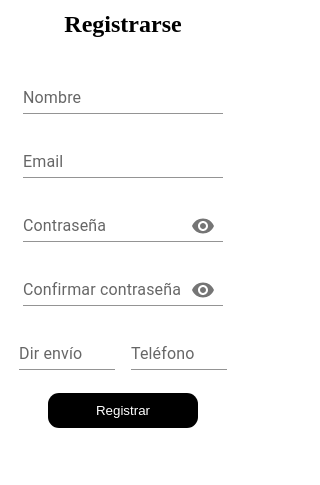
Test case: Register component › U8F-008: Validar existencia de minúscula en contraseña.
Step 1. Type "HOLA1234" into the password field labelled "Contraseña" → (99, 226), box [23,210,175,242]
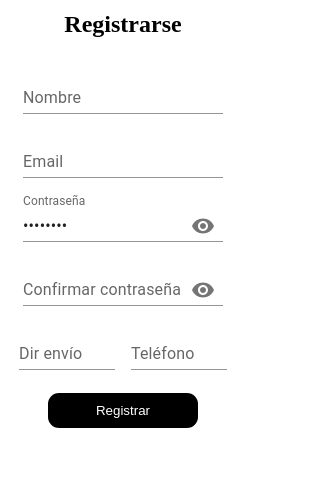
Step 2. Click the button "Registrar" → (123, 410), box [48,393,198,428]
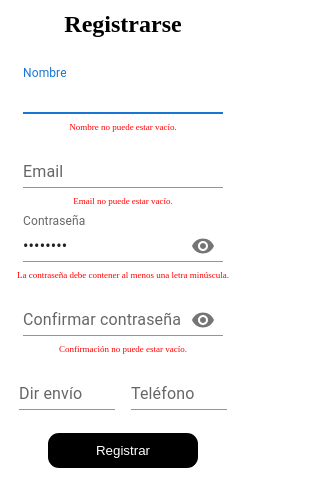
Check: the text with test id "PasswordAlerts" reads "La contraseña debe contener al menos una letra minúscula.", box [17,270,229,280]
